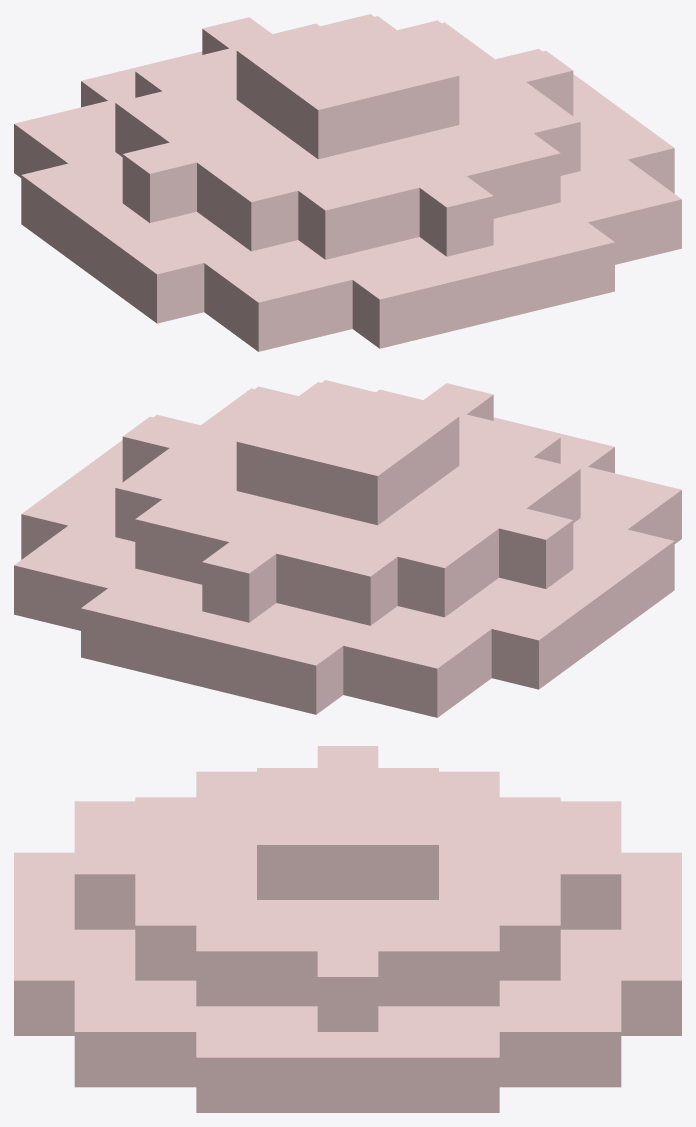
File: Power Pellet Tile.obj
3 views of the same model, one above another, from view 1: azimuth 30°, elevation 25°; view 2: azimuth 150°, elevation 25°; view 3: azimuth 270°, elevation 25° (orthographic). The views are drawn at different scales.
Bounding box in the file's own units: 11 × 3 × 11.
